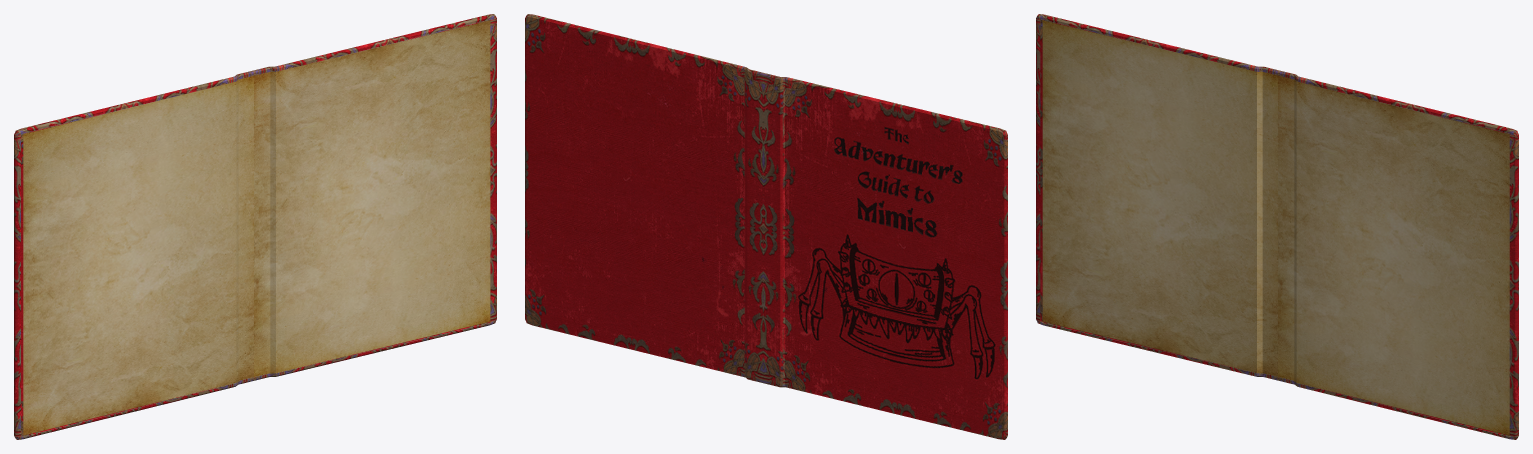
The model's file is LibroMimic02.fbx.
3 views of the same model, side by side, from view 1: azimuth 30°, elevation 25°; view 2: azimuth 150°, elevation 25°; view 3: azimuth 330°, elevation 25° (orthographic).
Visible parts, largest first — view 1: Libro Abierto; view 2: Libro Abierto; view 3: Libro Abierto.
Part boxes in pixels (box(x1,y1,x2,y2)): Libro Abierto: box(14, 14, 496, 439); Libro Abierto: box(525, 14, 1007, 439); Libro Abierto: box(1036, 14, 1518, 439).
Bounding box in the file's own units: 53.52 × 32.91 × 0.7684.
1 material, 1 textured.
